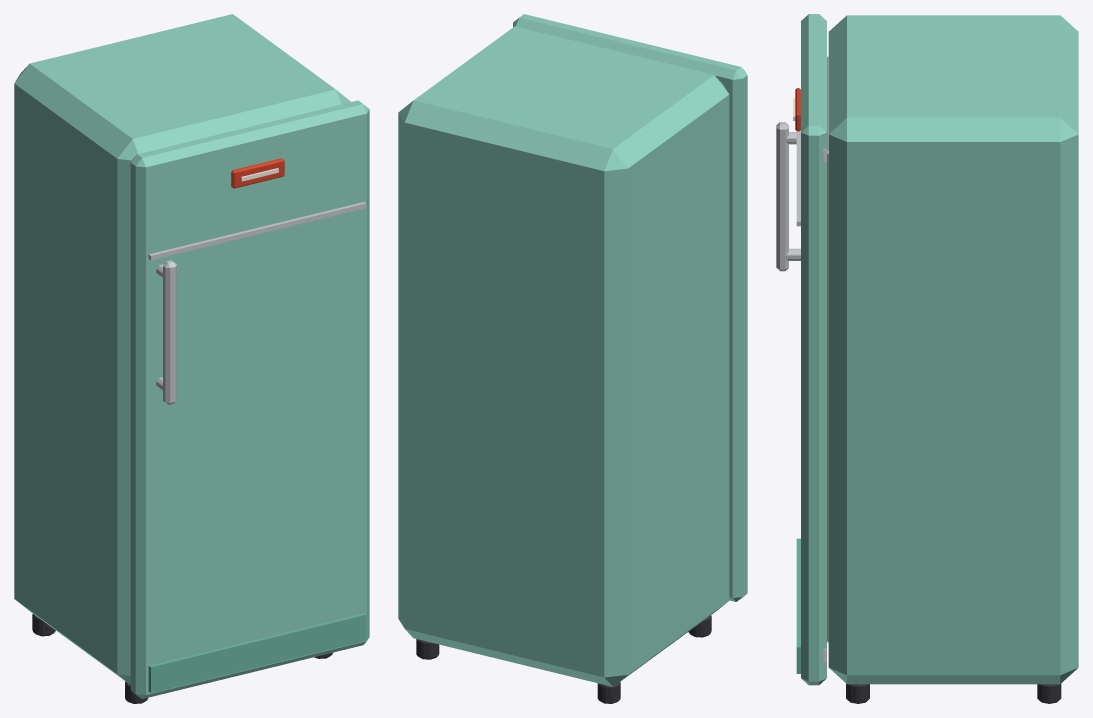
Rendered from FridgeModel.fbx.
3 renders of one model, left to right at view 1: azimuth 30°, elevation 25°; view 2: azimuth 150°, elevation 25°; view 3: azimuth 270°, elevation 25°, orthographic. The views are drawn at different scales.
Visible parts, largest first — view 1: Door, Body; view 2: Body, Door; view 3: Body, Door.
Boxes of the visible parts, x1,y1,x2,y2 form: Door: (130, 100, 369, 698); Body: (14, 14, 350, 703); Body: (398, 26, 729, 703); Door: (513, 14, 747, 601); Body: (822, 15, 1078, 703); Door: (776, 14, 828, 685).
Bounding box in the file's own units: 0.76 × 1.76 × 0.8225.
